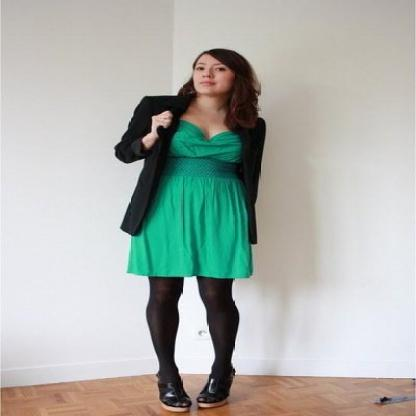dress: (127, 125, 256, 279)
jacket: (114, 77, 266, 240)
shoe: (156, 367, 232, 409)
